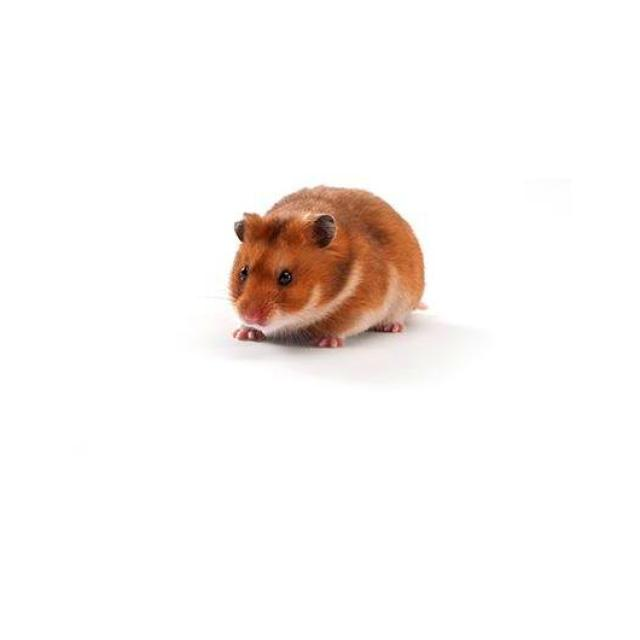hamster: (229, 186, 425, 347)
